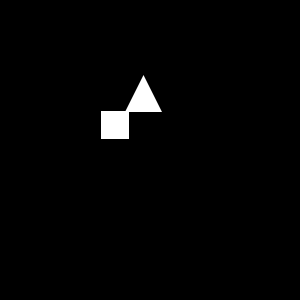circle: (101, 111, 129, 139)
triangle: (125, 75, 162, 112)
